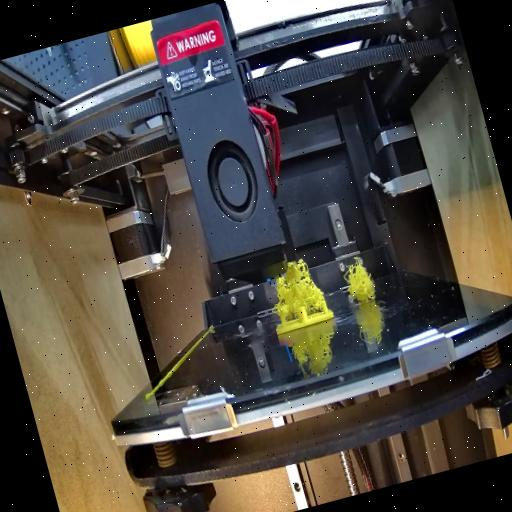spaghetti: (262, 250, 330, 318), (338, 256, 381, 304)
